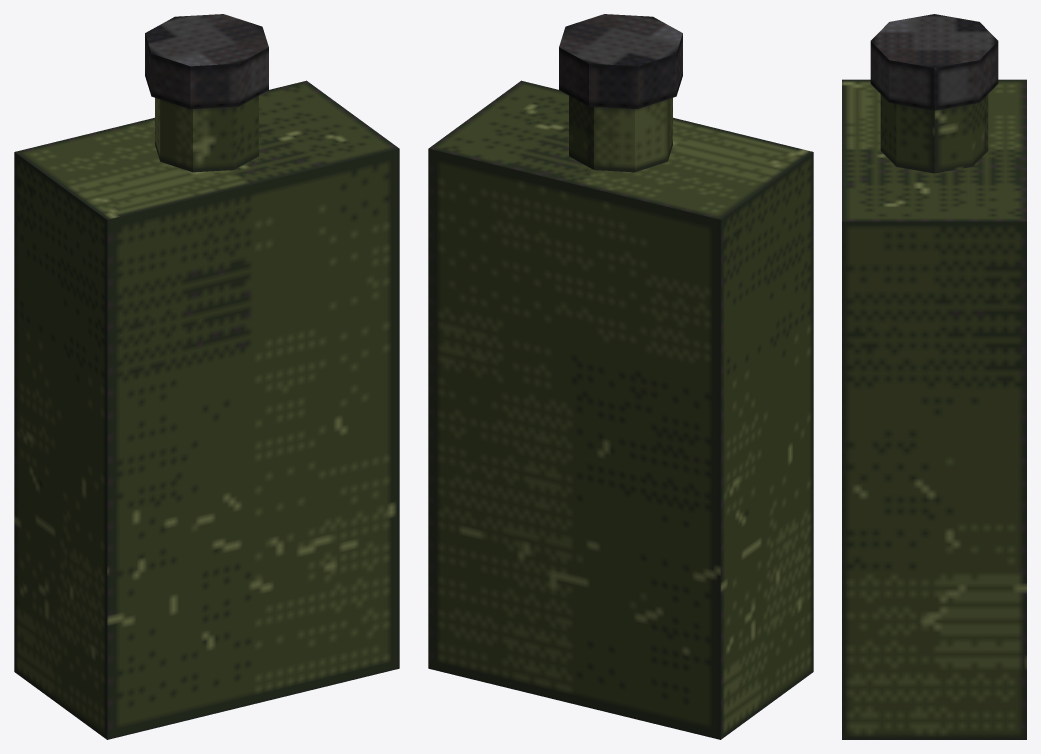
Rendered from SM_Canteen_01.fbx.
3 views of the same model, side by side, from view 1: azimuth 30°, elevation 25°; view 2: azimuth 150°, elevation 25°; view 3: azimuth 270°, elevation 25° (orthographic).
Parts seen in each view (by area): view 1: SM_Canteen_01; view 2: SM_Canteen_01; view 3: SM_Canteen_01.
Boxes of the visible parts, x1,y1,x2,y2 form: SM_Canteen_01: (14,14,399,739); SM_Canteen_01: (428,14,813,739); SM_Canteen_01: (842,14,1026,739).
Bounding box in the file's own units: 0.1 × 0.206 × 0.055.
Materials: 1 (1 with a texture image).
